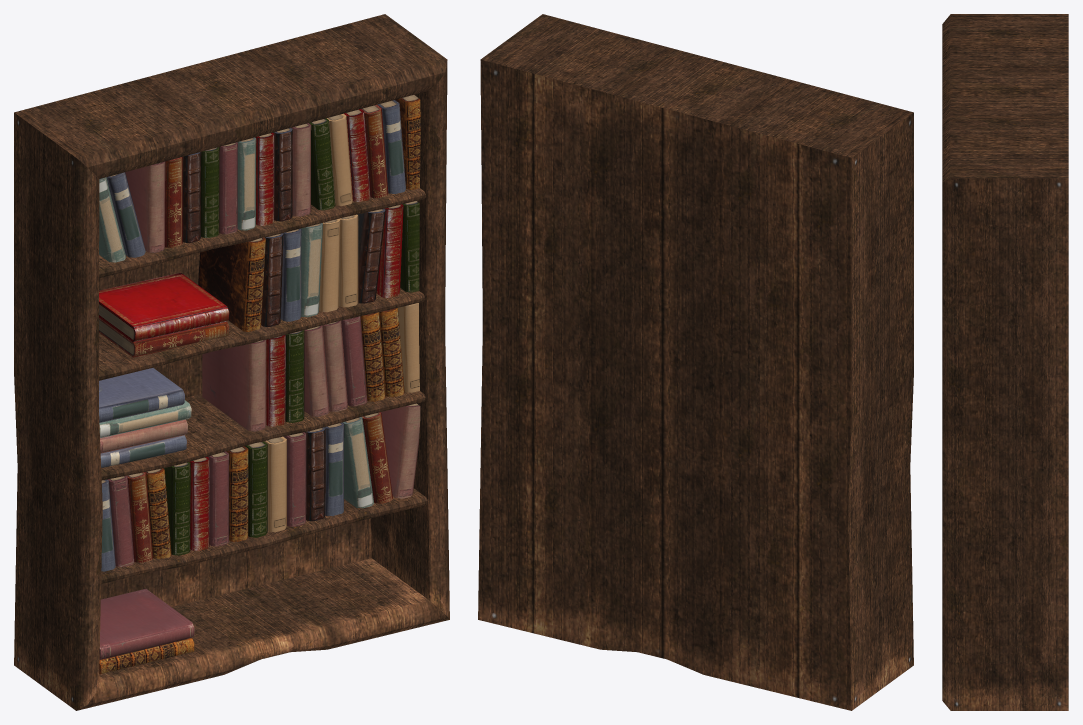
The model's file is BOOKS FBX.FBX.
3 renders of one model, left to right at view 1: azimuth 30°, elevation 25°; view 2: azimuth 150°, elevation 25°; view 3: azimuth 270°, elevation 25°, orthographic. The views are drawn at different scales.
Parts seen in each view (by area): view 1: SHELF; view 2: SHELF; view 3: SHELF.
Part boxes in pixels (x1=…): SHELF: x1=14, y1=14, x2=449, y2=710; SHELF: x1=478, y1=14, x2=913, y2=710; SHELF: x1=942, y1=14, x2=1068, y2=710.
Bounding box in the file's own units: 3.67 × 5.26 × 1.14.
